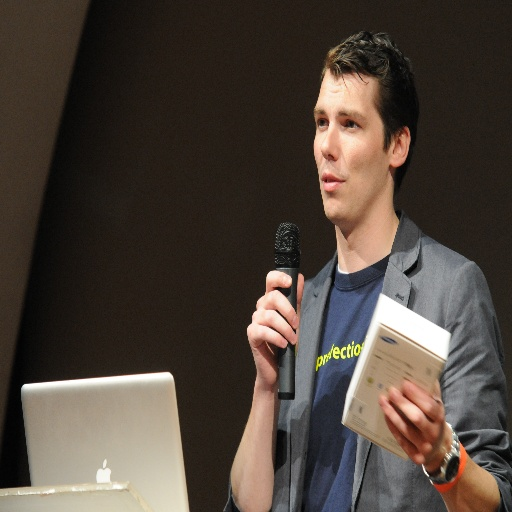hand: (250, 266, 306, 400), (377, 376, 448, 469)
